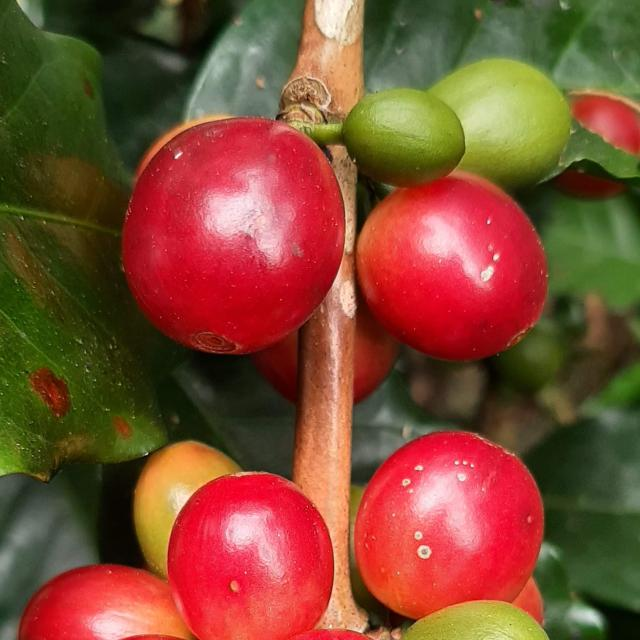green: (430, 58, 572, 189), (343, 88, 466, 187), (402, 602, 550, 640)
red: (122, 117, 344, 354), (357, 172, 548, 361), (355, 432, 545, 621), (167, 473, 333, 640), (17, 566, 194, 640), (354, 294, 400, 403)
yellow: (134, 441, 241, 580)
